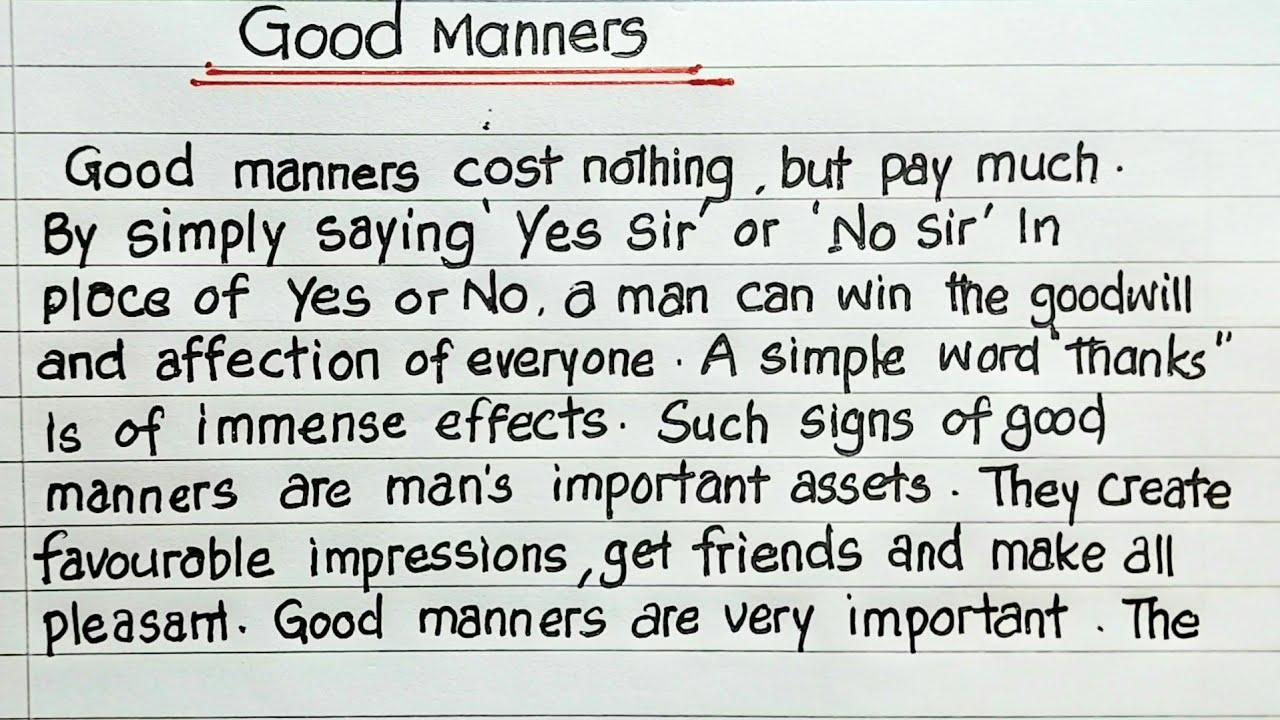text: (32, 327, 1233, 397), (44, 458, 1234, 528), (41, 592, 1204, 661), (28, 524, 1179, 593), (41, 262, 1196, 330), (38, 196, 1062, 272), (43, 392, 1110, 462), (62, 139, 1100, 205), (238, 0, 652, 62)
